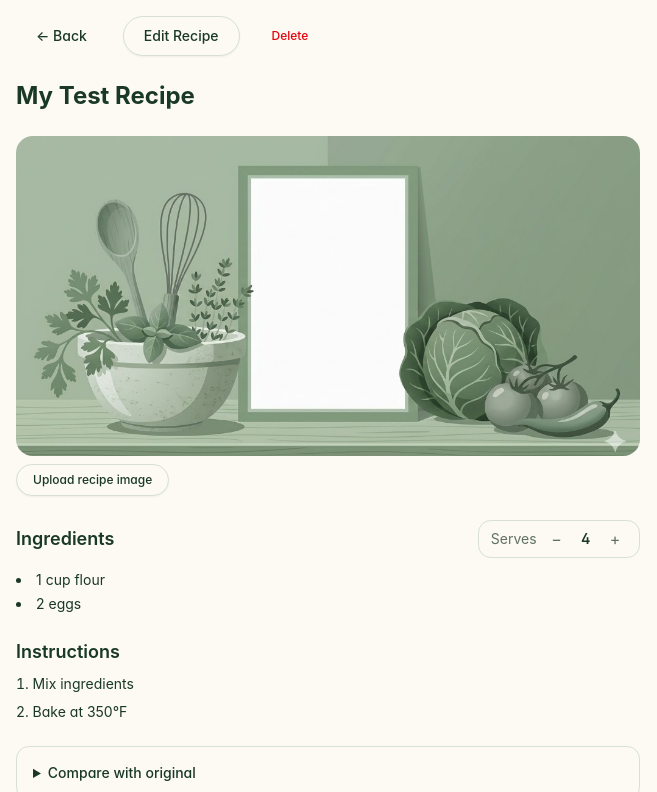
RecipeDetailPage › cancels edit mode without saving
Expected: the heading "My Test Recipe" is shown, x1=16 y1=81 x2=195 y2=110
Click the button "Edit Recipe".
click(181, 36)  # box x1=123 y1=16 x2=240 y2=56
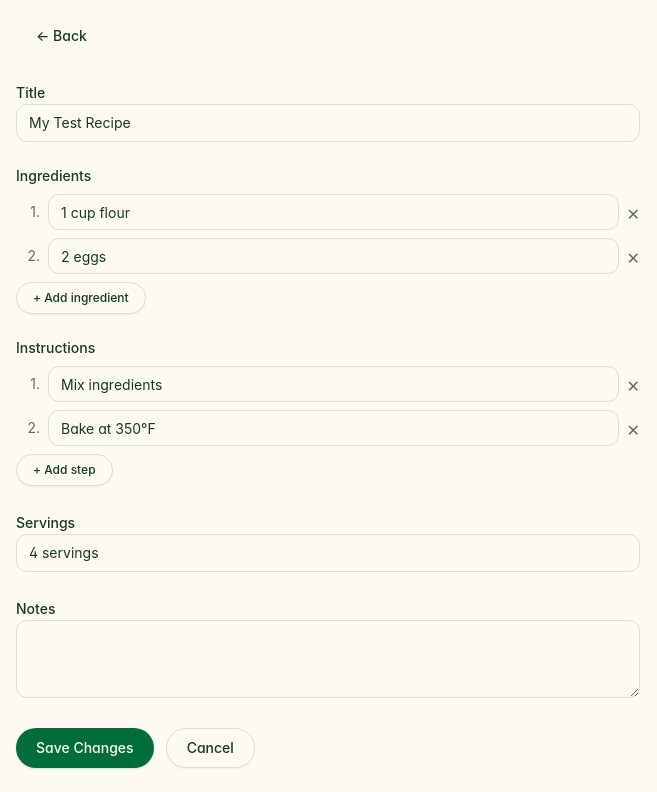
Now the field labelled "Title" is shown, box x1=16 y1=104 x2=640 y2=142
Click the button "Cancel".
click(210, 748)  # box x1=166 y1=728 x2=255 y2=768
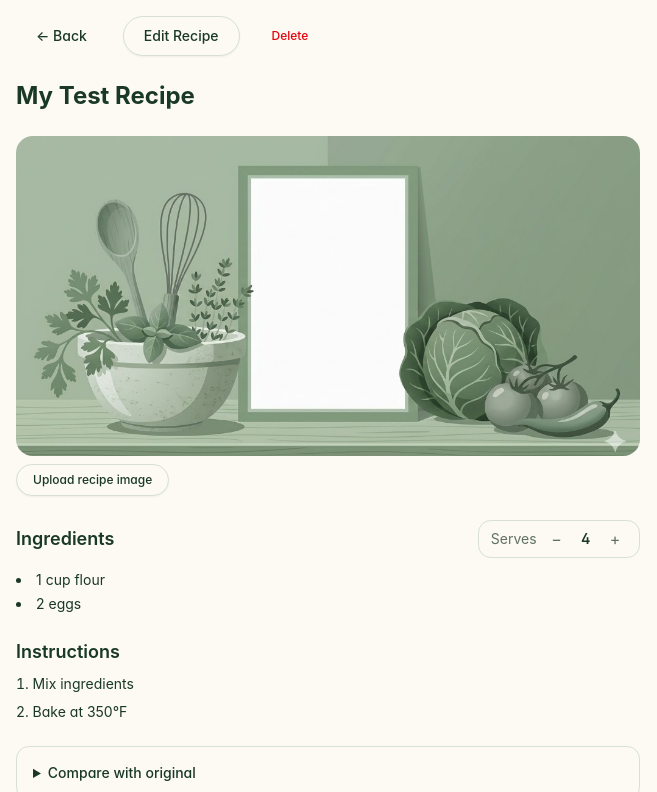
Now the label labelled "Title" is gone
Now the button "Edit Recipe" is shown, box x1=123 y1=16 x2=240 y2=56
